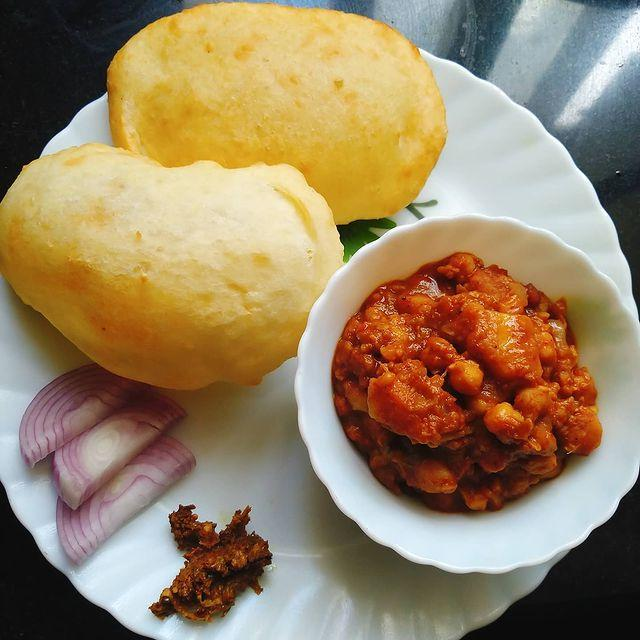Chole: (337, 228, 626, 550)
